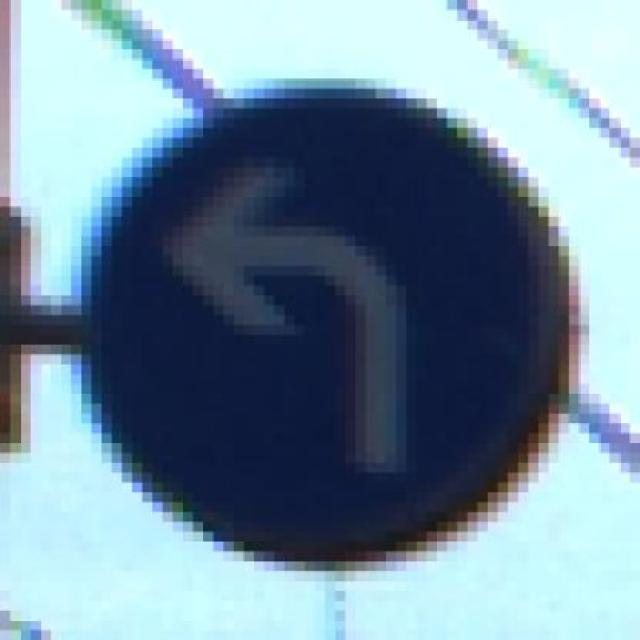Turn left ahead: (82, 68, 589, 581)
